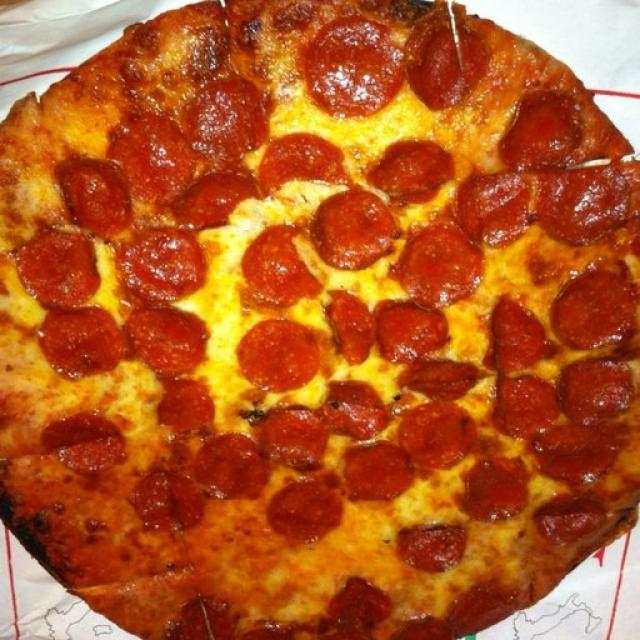pepperoni: (239, 521, 335, 623), (447, 433, 532, 528), (10, 394, 102, 474), (159, 330, 238, 420), (152, 534, 234, 619), (432, 336, 524, 410), (317, 330, 398, 414), (540, 331, 627, 409), (244, 368, 326, 450), (2, 289, 88, 367), (58, 466, 140, 546), (288, 441, 381, 506), (374, 483, 449, 563), (520, 260, 602, 332), (510, 403, 584, 481), (323, 248, 402, 320), (434, 263, 515, 332), (84, 266, 153, 347), (187, 436, 273, 499), (111, 393, 184, 466), (166, 169, 242, 237), (4, 216, 84, 280), (111, 117, 186, 184), (514, 168, 600, 226), (382, 406, 466, 465), (188, 276, 264, 340), (372, 140, 446, 204), (312, 165, 380, 232), (24, 156, 102, 214), (298, 96, 371, 156), (436, 108, 506, 168), (228, 138, 298, 196), (82, 202, 145, 265), (32, 96, 107, 148), (250, 200, 315, 260), (246, 6, 312, 64), (264, 275, 314, 351), (123, 2, 192, 57), (175, 66, 245, 116), (400, 0, 476, 42), (159, 241, 238, 281), (428, 208, 483, 260), (188, 0, 250, 23)
pizza: (0, 0, 640, 640)
